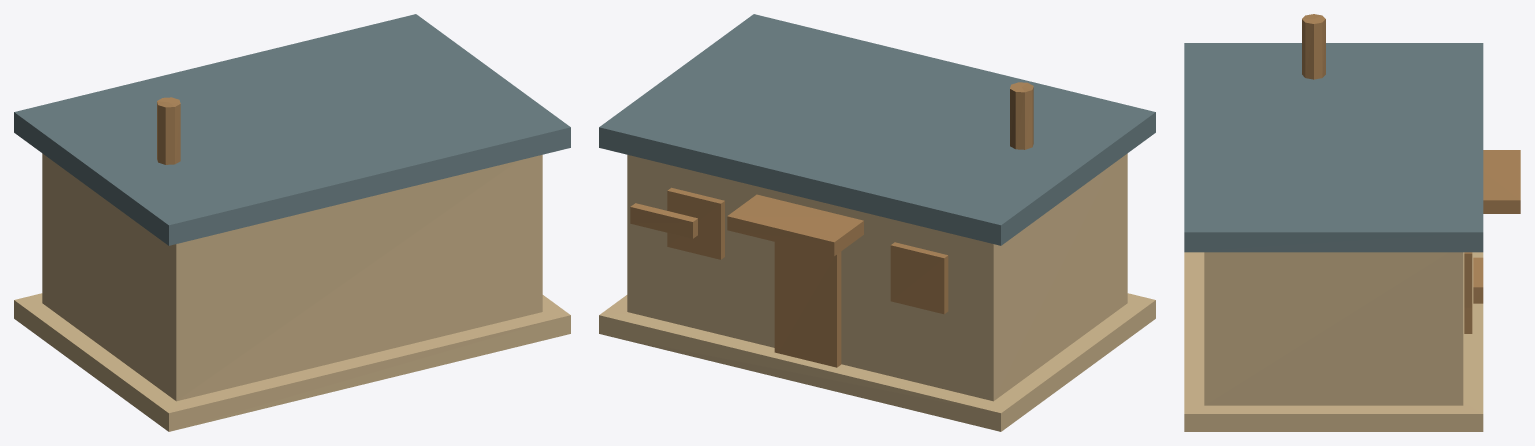
File: service_clinic.glb
3 views of the same model, side by side, from view 1: azimuth 30°, elevation 25°; view 2: azimuth 150°, elevation 25°; view 3: azimuth 270°, elevation 25° (orthographic). The views are drawn at different scales.
Parts seen in each view (by area): view 1: clinic-static-clinic-cream, clinic-static-clinic-iron, clinic-static-clinic-galv; view 2: clinic-static-clinic-cream, clinic-static-clinic-iron, clinic-static-clinic-teal, clinic-static-clinic-galv, clinic-static-clinic-timber; view 3: clinic-static-clinic-iron, clinic-static-clinic-cream, clinic-static-clinic-timber, clinic-static-clinic-galv, clinic-static-clinic-teal.
Boxes of the visible parts, x1,y1,x2,y2 form: clinic-static-clinic-cream: (14,153,570,431); clinic-static-clinic-iron: (14,14,570,245); clinic-static-clinic-galv: (157,97,180,164); clinic-static-clinic-cream: (599,153,1155,431); clinic-static-clinic-iron: (599,14,1155,245); clinic-static-clinic-teal: (630,203,841,367); clinic-static-clinic-galv: (667,82,1033,314); clinic-static-clinic-timber: (727,194,863,256); clinic-static-clinic-iron: (1184,43,1483,252); clinic-static-clinic-cream: (1184,252,1483,431); clinic-static-clinic-timber: (1483,150,1520,213); clinic-static-clinic-galv: (1302,14,1472,307); clinic-static-clinic-teal: (1464,257,1483,333).
Bounding box in the file's own units: 4.5 × 2.83 × 3.38.
